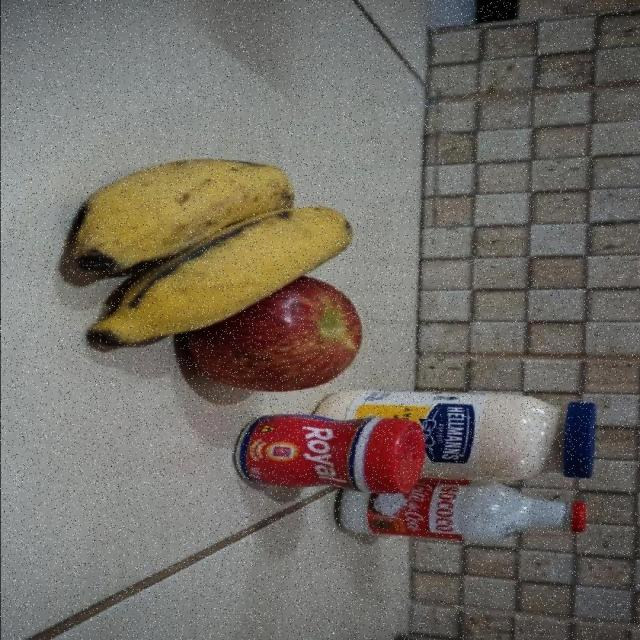Apple: (184, 290, 377, 391)
Banana: (60, 156, 361, 284)
CoconutMilk: (333, 494, 598, 546)
Mayonnaise: (430, 393, 610, 479)
Yeast: (240, 417, 423, 493)
